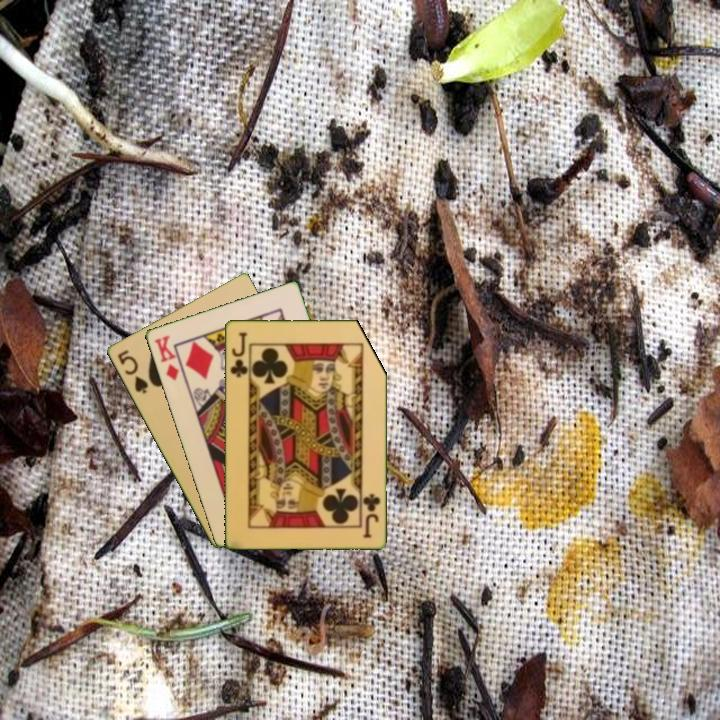5s: (113, 346, 151, 397)
Jc: (226, 328, 250, 380), (359, 490, 382, 540)
Kd: (150, 331, 182, 383)
